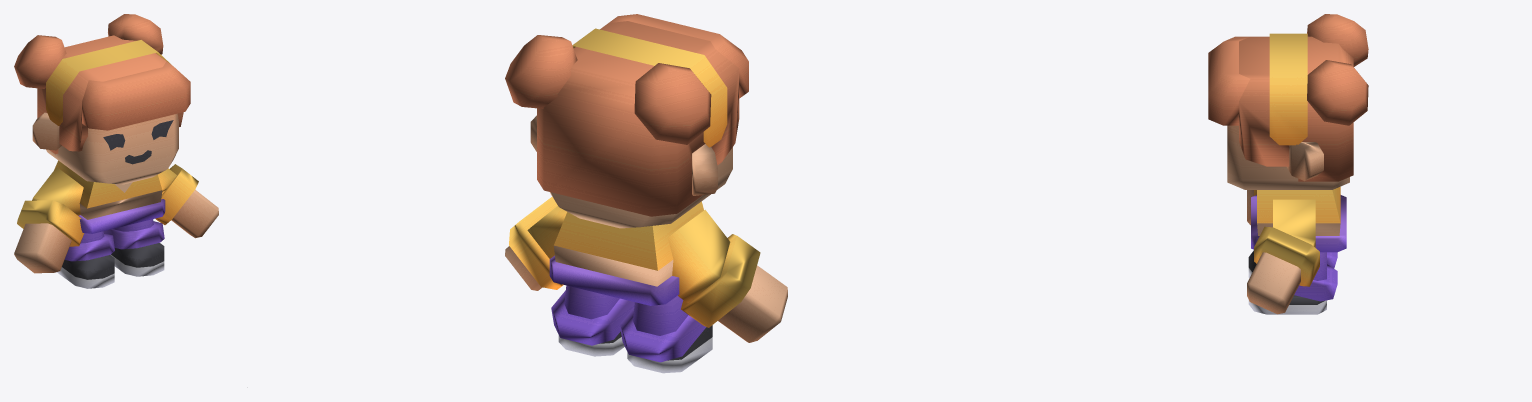
File: crowdB_sprint_0.glb
3 views of the same model, side by side, from view 1: azimuth 30°, elevation 25°; view 2: azimuth 150°, elevation 25°; view 3: azimuth 270°, elevation 25° (orthographic). The views are drawn at different scales.
Visible parts, largest first — view 1: crowdB-sprint-0; view 2: crowdB-sprint-0; view 3: crowdB-sprint-0.
Boxes of the visible parts, x1=… form: crowdB-sprint-0: x1=14, y1=14, x2=218, y2=288; crowdB-sprint-0: x1=505, y1=14, x2=787, y2=373; crowdB-sprint-0: x1=1208, y1=14, x2=1368, y2=314.
Bounding box in the file's own units: 1.2 × 0.7234 × 1.2.
Materials: 1 (1 with a texture image).
